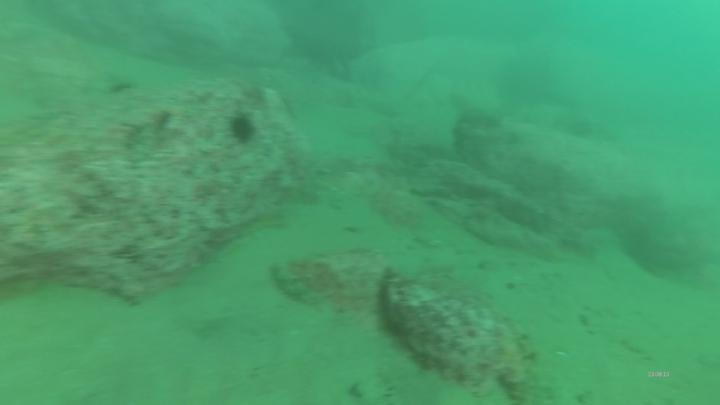echinus: (229, 112, 261, 148)
